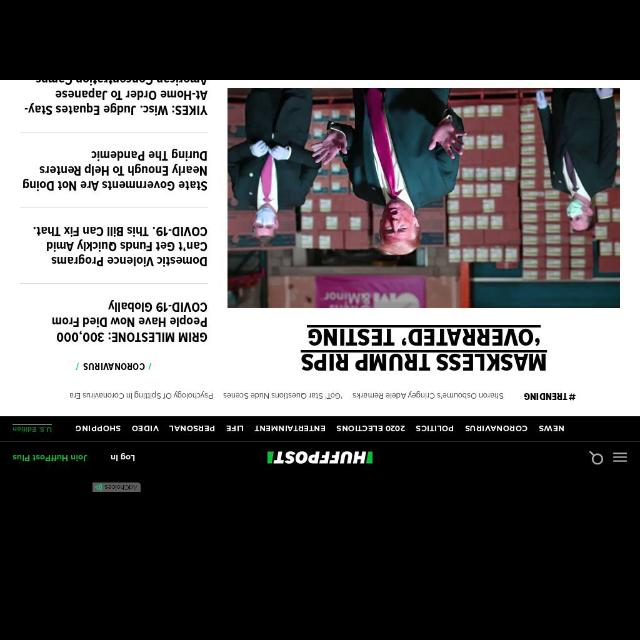icon: (588, 451, 604, 465), (614, 452, 628, 464)
image: (228, 80, 620, 310), (267, 450, 373, 464)
multitab: (2, 416, 640, 442)
text: (299, 324, 549, 372), (22, 149, 208, 193), (34, 224, 208, 266), (52, 299, 208, 343), (24, 82, 206, 116), (68, 390, 214, 400), (352, 391, 503, 399), (74, 360, 154, 374), (224, 392, 342, 400), (13, 452, 87, 462), (522, 391, 576, 402), (253, 424, 327, 432), (336, 424, 406, 432), (465, 424, 527, 432), (10, 424, 54, 434), (168, 424, 216, 432), (416, 424, 452, 432), (76, 426, 120, 432), (538, 424, 564, 434), (110, 453, 136, 462), (130, 424, 158, 432), (224, 426, 246, 432)
